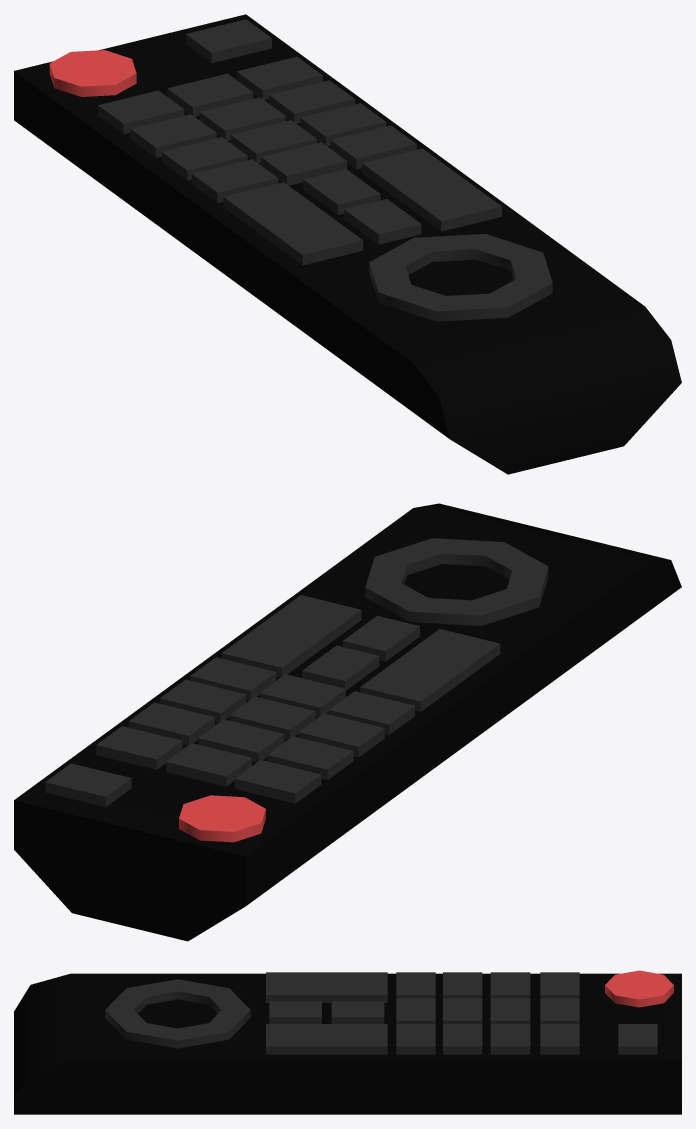
File: remote_tv.fbx
3 renders of one model, top to bottom at view 1: azimuth 30°, elevation 25°; view 2: azimuth 150°, elevation 25°; view 3: azimuth 270°, elevation 25°, orthographic. The views are drawn at different scales.
Parts seen in each view (by area): view 1: remote; view 2: remote; view 3: remote.
Part boxes in pixels (x1=…): remote: x1=14, y1=14, x2=681, y2=474; remote: x1=14, y1=503, x2=681, y2=941; remote: x1=14, y1=970, x2=681, y2=1114.
Bounding box in the file's own units: 24.58 × 11.05 × 80.
